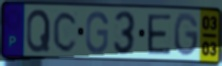3: (112, 10, 138, 57)
C: (52, 9, 79, 54)
E: (146, 13, 172, 56)
G: (172, 12, 200, 59), (85, 10, 110, 56)
Q: (25, 8, 52, 54)
